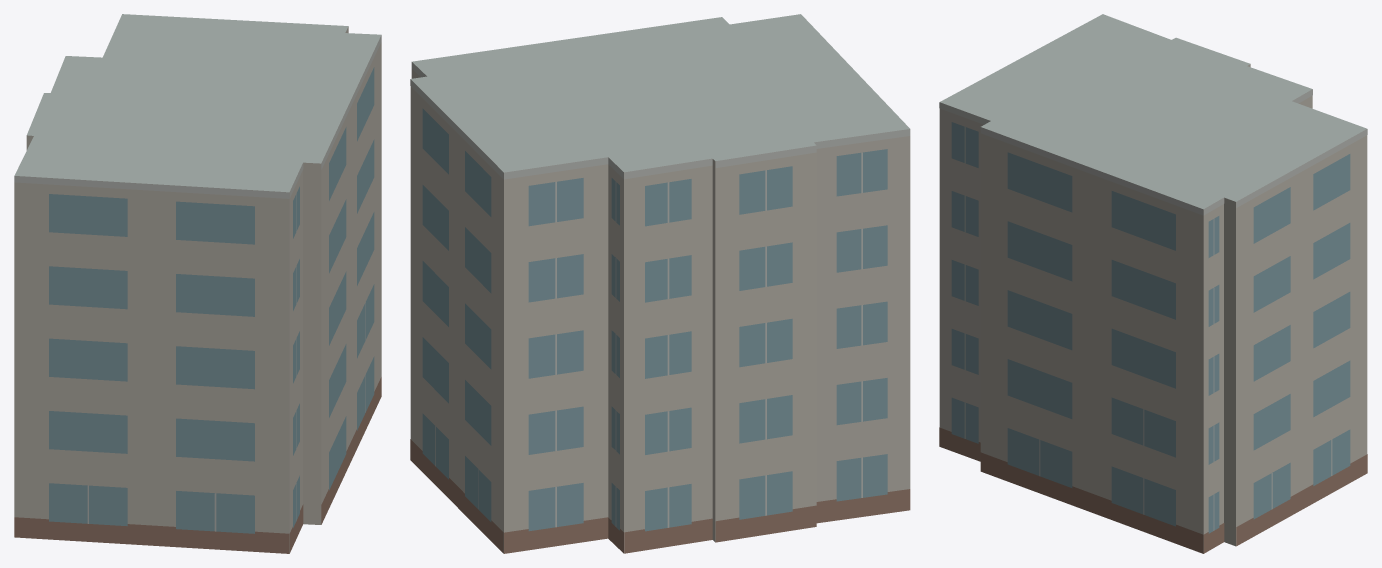
File: survey-upis-32780206.glb
3 views of the same model, side by side, from view 1: azimuth 30°, elevation 25°; view 2: azimuth 150°, elevation 25°; view 3: azimuth 270°, elevation 25° (orthographic). The views are drawn at different scales.
Parts seen in each view (by area): view 1: survey-upis-32780206.tmp; view 2: survey-upis-32780206.tmp; view 3: survey-upis-32780206.tmp.
Part boxes in pixels (x1,y1,x2,y2): survey-upis-32780206.tmp: (14,14,381,553); survey-upis-32780206.tmp: (410,14,910,553); survey-upis-32780206.tmp: (939,14,1367,553).
Bounding box in the file's own units: 16.18 × 13.3 × 14.98.
